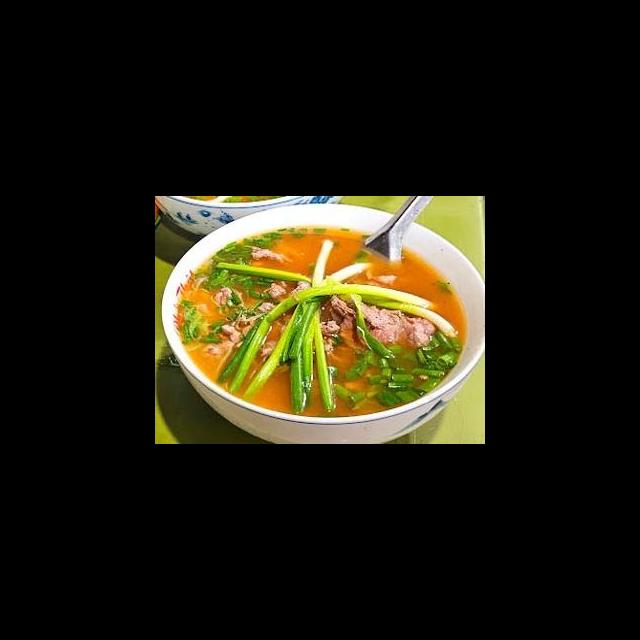thit bo: (200, 276, 294, 364), (343, 294, 439, 354), (327, 294, 385, 356)
